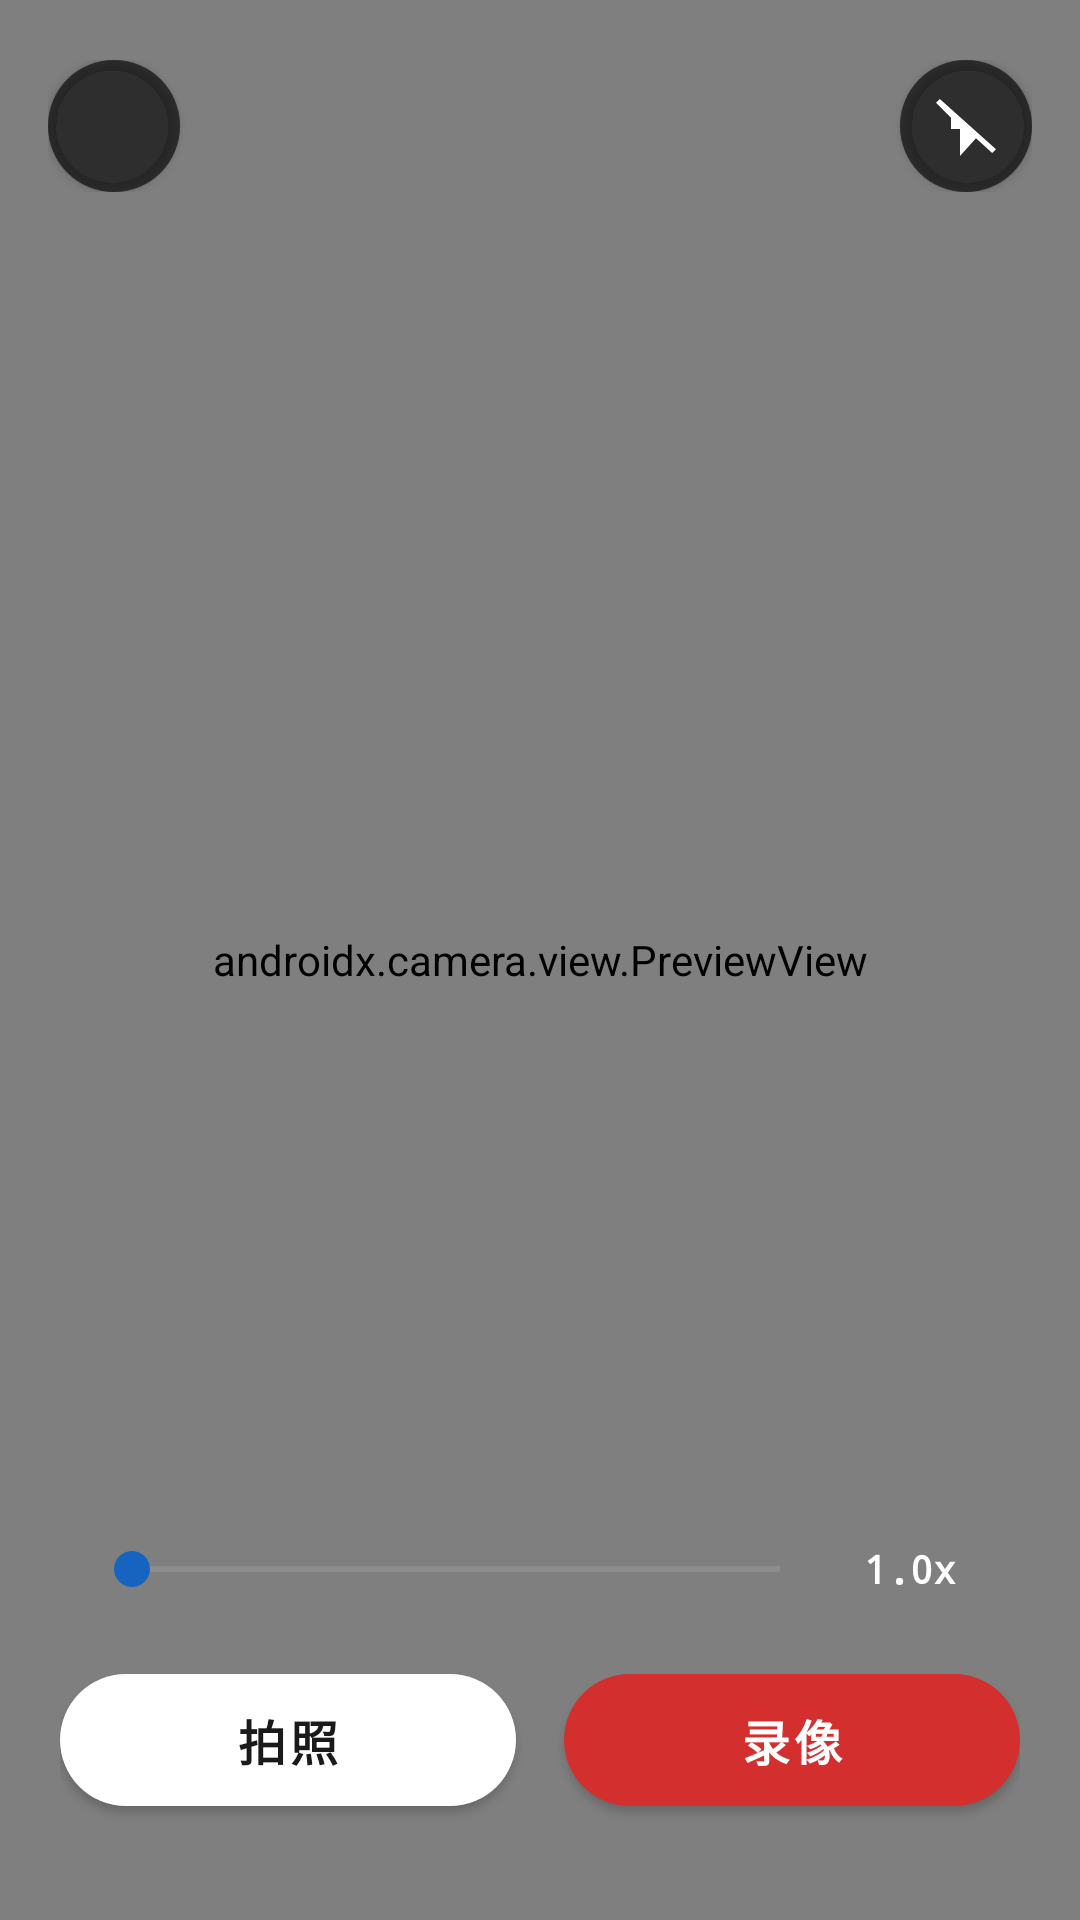

Locate icon controls on the screen. Image size 1080×1920, boxes as detection(x1, y1, x2, y2).
flash off: detection(900, 60, 1032, 192)
